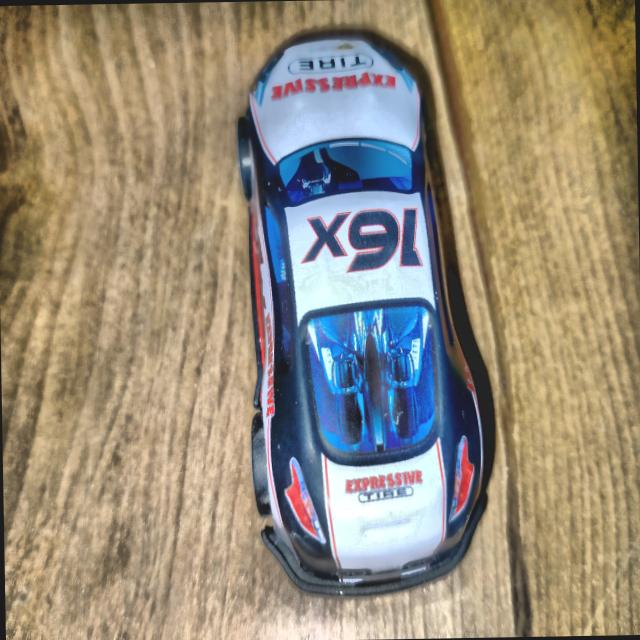Car: (236, 30, 489, 594)
